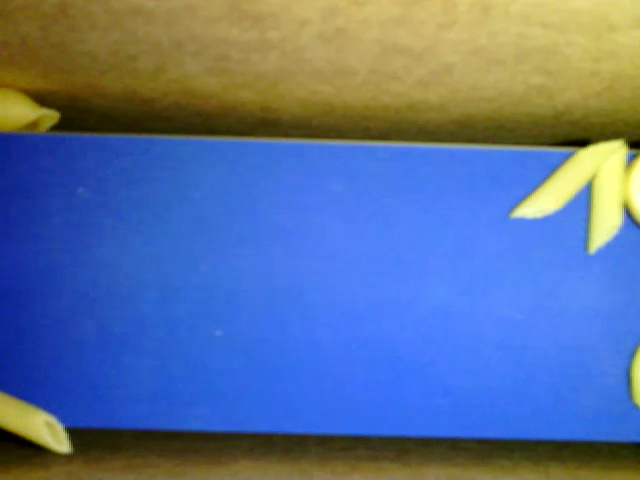penne: (507, 137, 628, 221), (582, 143, 630, 254), (1, 391, 74, 455)
shell: (1, 87, 62, 132)
